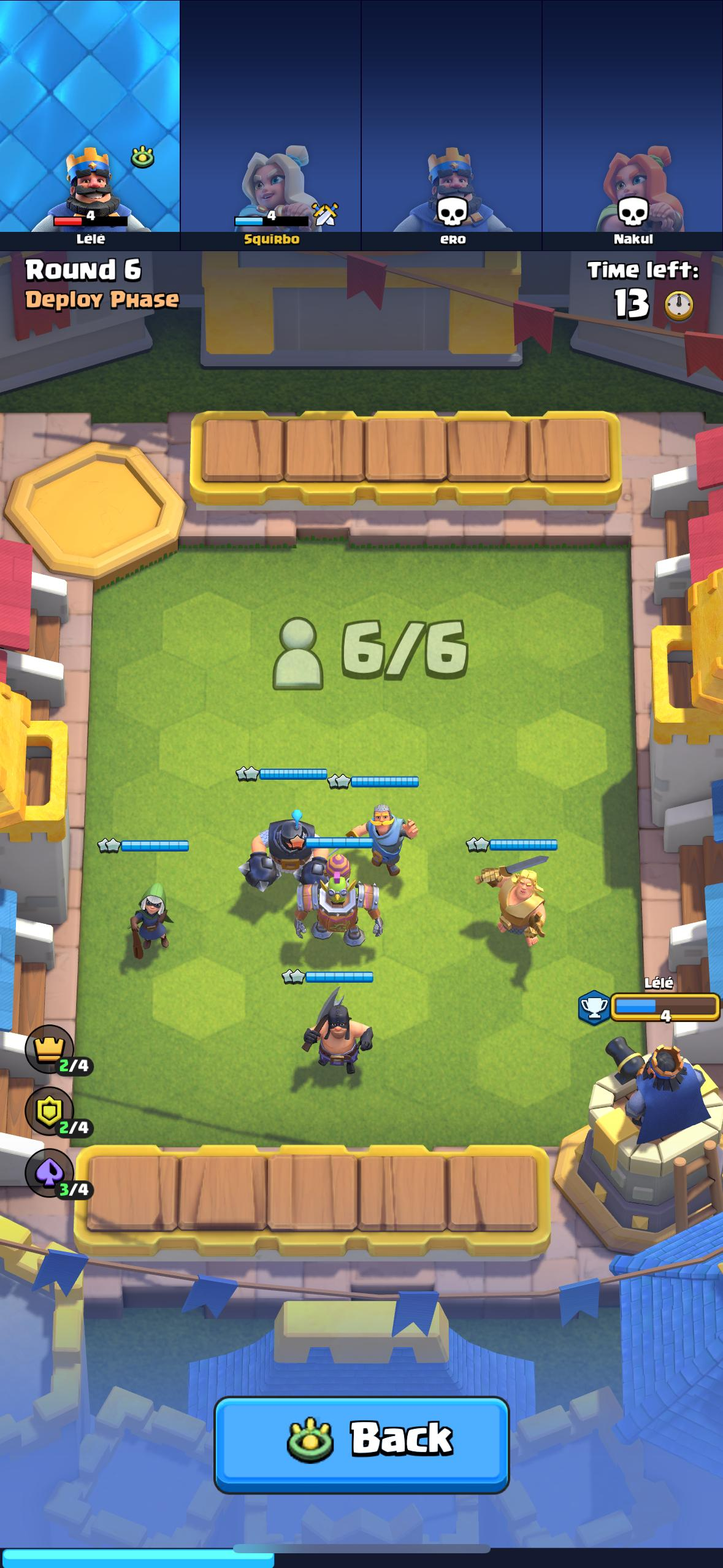bandit: (122, 880, 177, 954)
executioner: (301, 986, 375, 1072)
golden: (476, 856, 551, 944)
knight: (348, 799, 410, 872)
machine: (298, 857, 385, 944)
mega: (248, 814, 329, 883)
